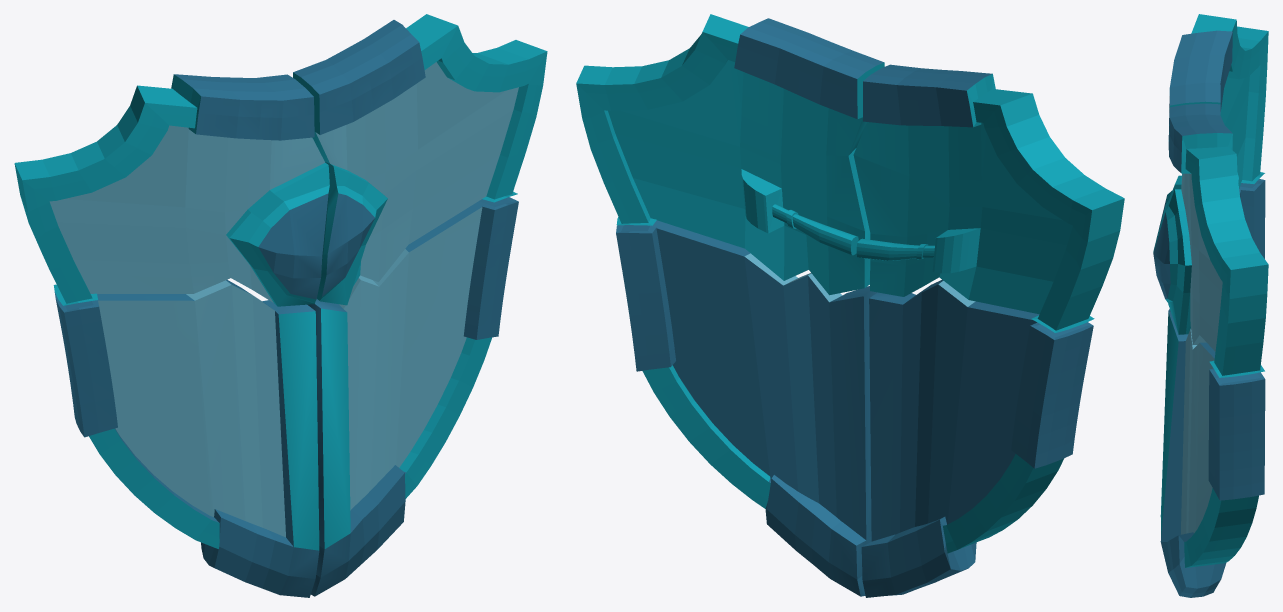
Rendered from perisai retak.fbx.
The picture shows the model from 3 angles, left to right: view 1: azimuth 30°, elevation 25°; view 2: azimuth 150°, elevation 25°; view 3: azimuth 270°, elevation 25°; orthographic projection. The views are drawn at different scales.
Visible parts, largest first — view 1: kiri bwah, kiri atas, kanan bwah, kanan atas; view 2: kanan bwah, kanan atas, kiri bwah, kiri atas; view 3: kanan bwah, kanan atas, kiri atas, kiri bwah.
Part boxes in pixels (x1,y1,x2,y2): kiri bwah: (54, 279, 319, 597); kiri atas: (14, 74, 329, 306); kanan bwah: (307, 197, 518, 596); kanan atas: (293, 14, 547, 305); kanan bwah: (616, 220, 877, 596); kanan atas: (576, 14, 884, 295); kiri bwah: (861, 280, 1093, 597); kiri atas: (853, 64, 1124, 332); kanan bwah: (1160, 311, 1265, 597); kanan atas: (1153, 103, 1268, 377); kiri atas: (1153, 14, 1268, 252); kiri bwah: (1160, 179, 1265, 530).
Size of the model in its own units: 241 by 233 by 47.84.
